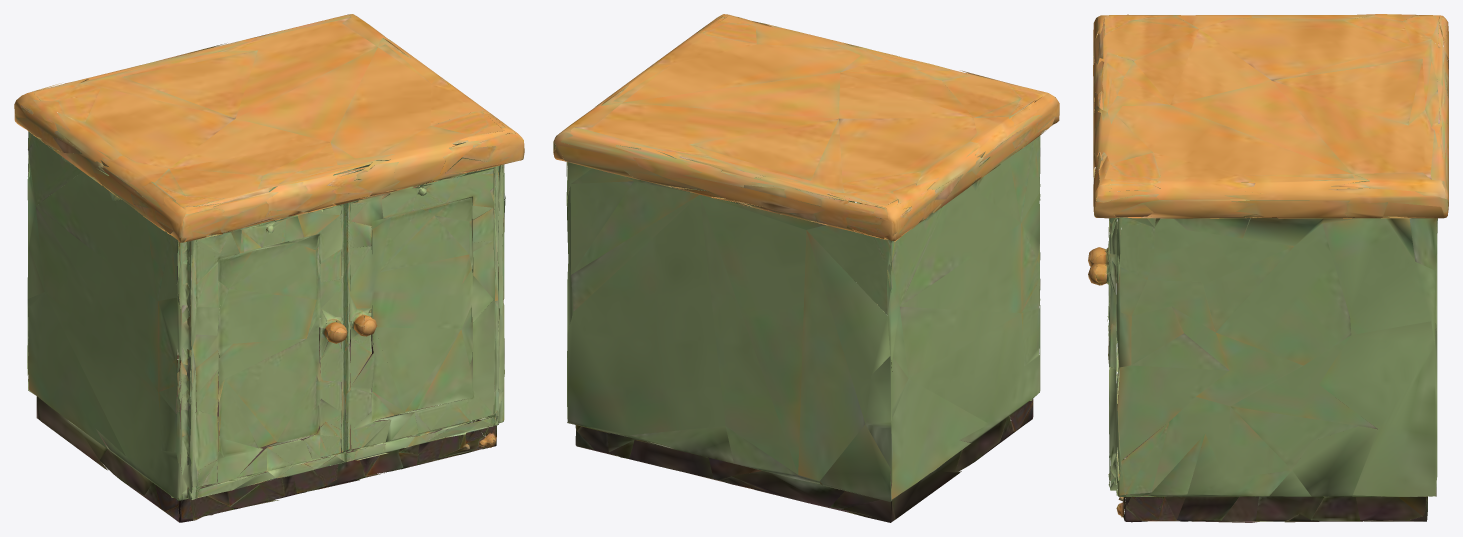
The model's file is counter_corner.glb.
3 renders of one model, left to right at view 1: azimuth 30°, elevation 25°; view 2: azimuth 150°, elevation 25°; view 3: azimuth 270°, elevation 25°, orthographic. The views are drawn at different scales.
Parts seen in each view (by area): view 1: counter_corner; view 2: counter_corner; view 3: counter_corner.
Boxes of the visible parts, x1=… form: counter_corner: x1=14, y1=14, x2=524, y2=522; counter_corner: x1=553, y1=14, x2=1059, y2=522; counter_corner: x1=1088, y1=14, x2=1448, y2=522.
Bounding box in the file's own units: 1.03 × 0.92 × 0.8732.
1 material, 1 textured.
